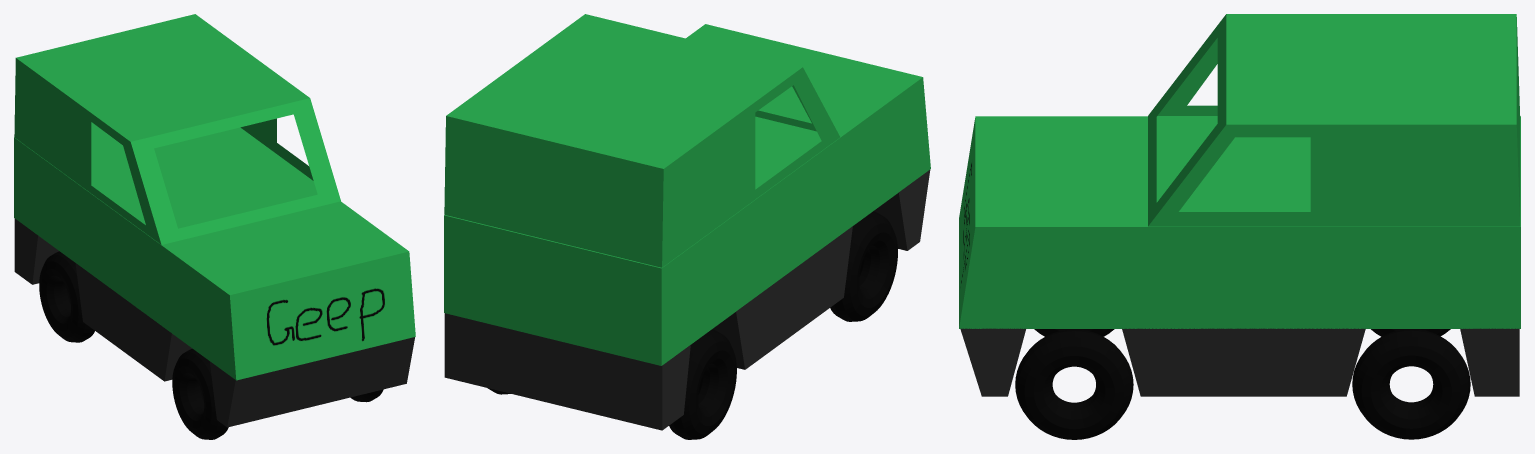
The model's file is car.fbx.
The picture shows the model from 3 angles, left to right: view 1: azimuth 30°, elevation 25°; view 2: azimuth 150°, elevation 25°; view 3: azimuth 270°, elevation 25°; orthographic projection. The views are drawn at different scales.
Visible parts, largest first — view 1: 立方体.001, 立方体.004, 立方体.002, 立方体, 环体.003, 环体.001, 立方体.003; view 2: 立方体.001, 立方体.004, 立方体.003, 立方体, 环体.001, 环体.003, 立方体.002; view 3: 立方体.004, 立方体.001, 立方体, 环体.002, 环体, 立方体.003, 立方体.002.
Part boxes in pixels (x1,y1,x2,y2): 立方体.001: (14, 14, 340, 244); 立方体.004: (14, 137, 415, 380); 立方体.002: (209, 337, 414, 427); 立方体: (75, 263, 192, 381); 环体.003: (172, 348, 228, 439); 环体.001: (39, 251, 94, 342); 立方体.003: (14, 218, 59, 284); 立方体.001: (444, 14, 839, 267); 立方体.004: (444, 24, 930, 365); 立方体.003: (444, 313, 690, 430); 立方体: (712, 226, 852, 369); 环体.001: (669, 329, 736, 439); 环体.003: (830, 211, 897, 321); 立方体.002: (873, 169, 930, 250); 立方体.004: (959, 116, 1520, 328); 立方体.001: (1148, 14, 1520, 226); 立方体: (1122, 328, 1365, 396); 环体.002: (1015, 329, 1133, 439); 环体: (1352, 329, 1470, 439); 立方体.003: (1460, 328, 1519, 396); 立方体.002: (960, 328, 1025, 396).
Size of the model in its own units: 704 by 946 by 1500.
